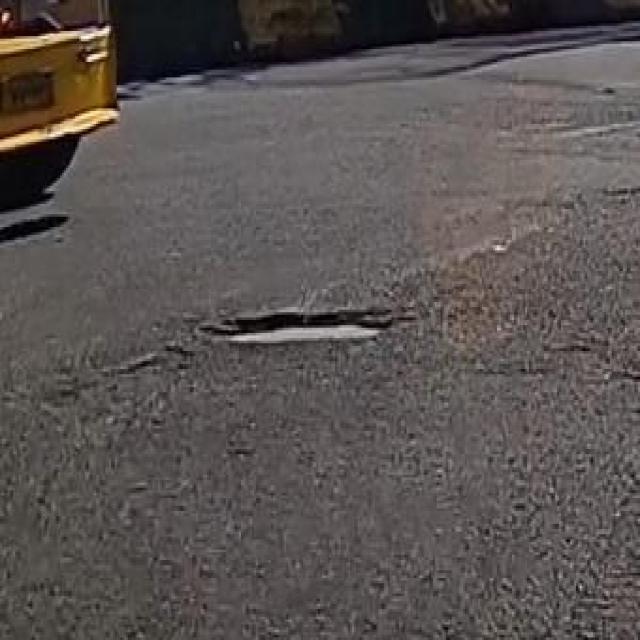Pothole: (200, 304, 405, 346)
